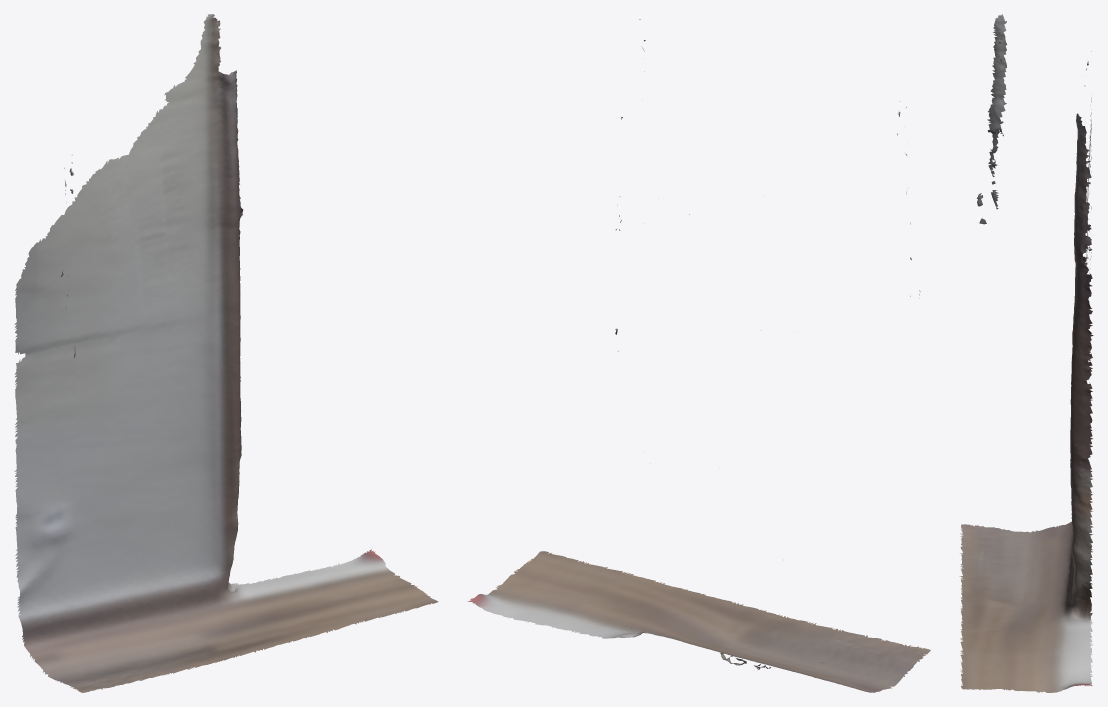
File: apartment-full-107-fa89570d054b.glb
The picture shows the model from 3 angles, left to right: view 1: azimuth 30°, elevation 25°; view 2: azimuth 150°, elevation 25°; view 3: azimuth 270°, elevation 25°; orthographic projection. The views are drawn at different scales.
Size of the model in its own units: 1.21 by 1.95 by 0.405.
